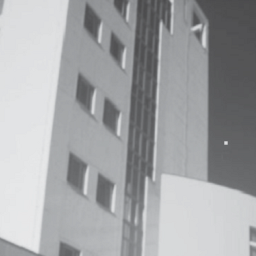Target: (222, 139, 230, 146)
